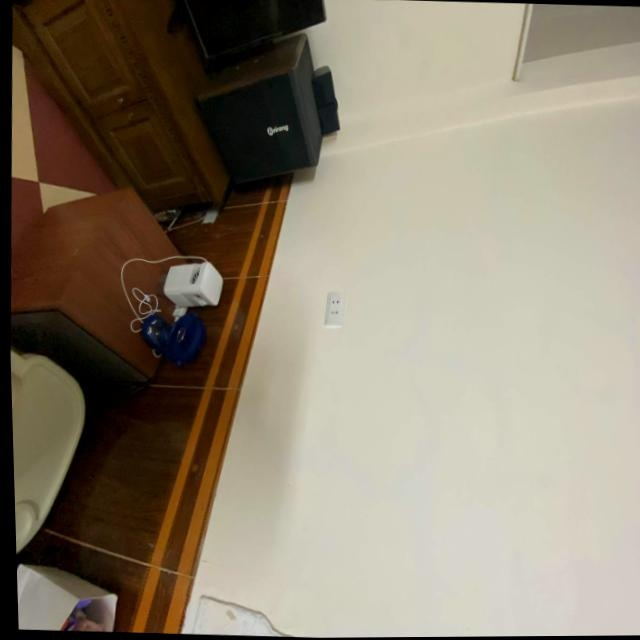outlet: (323, 290, 344, 327)
